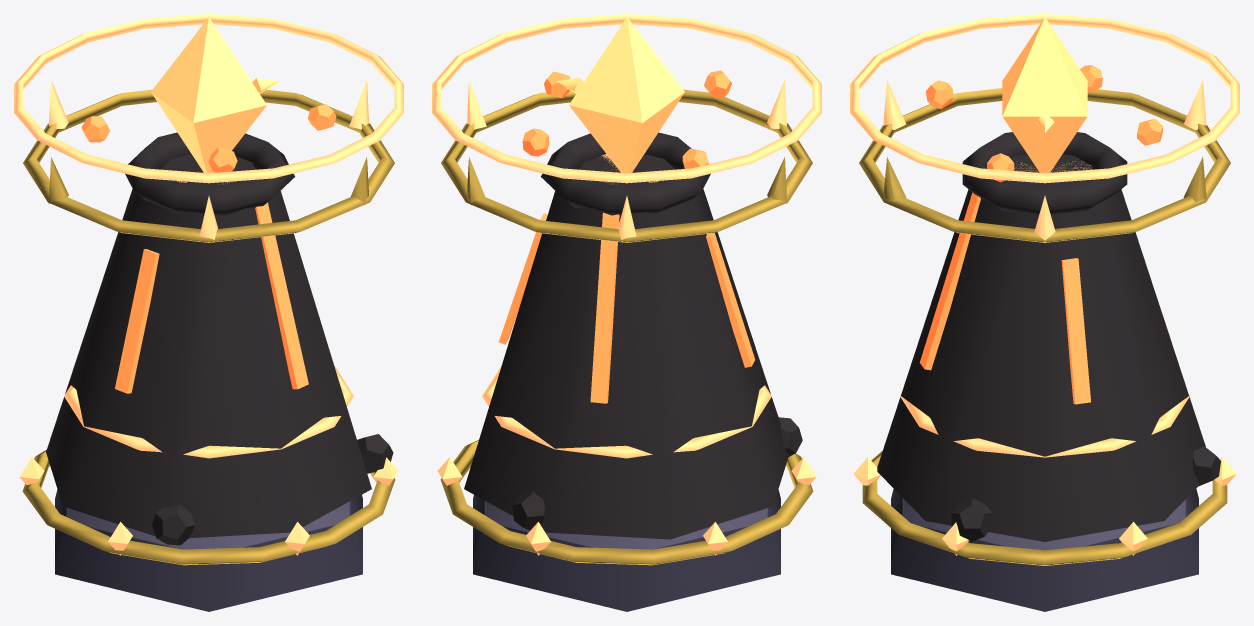
File: tower_element_elementVolcano_ultimate.glb
3 renders of one model, left to right at view 1: azimuth 30°, elevation 25°; view 2: azimuth 150°, elevation 25°; view 3: azimuth 270°, elevation 25°, orthographic.
Parts seen in each view (by area): view 1: volcano, base, ult_halo, crystal, ult_crown_band, volcano_rim, ult_ring, lava_rivulet_0_flow, base_top, lava_rivulet_3_flow, volcano_band, lava_rock_1 (+5 smaller); view 2: volcano, base, crystal, ult_halo, ult_crown_band, ult_ring, volcano_rim, lava_rivulet_2_flow, base_top, volcano_band, lava_rivulet_3_flow, lava_rivulet_1_flow (+5 smaller); view 3: volcano, base, ult_halo, ult_crown_band, crystal, volcano_rim, ult_ring, lava_rivulet_1_flow, base_top, volcano_band, lava_rivulet_0_flow, lava_rock_0 (+8 smaller).
Boxes of the visible parts, box(x1,y1,x2,y2) form: volcano: box(46, 154, 371, 538); base: box(55, 489, 362, 611); ult_halo: box(14, 14, 403, 183); crystal: box(151, 17, 266, 173); ult_crown_band: box(23, 89, 394, 242); volcano_rim: box(125, 132, 294, 216); ult_ring: box(22, 449, 395, 565); lava_rivulet_0_flow: box(255, 202, 308, 389); base_top: box(68, 501, 349, 549); lava_rivulet_3_flow: box(115, 249, 159, 393); volcano_band: box(64, 366, 353, 458); lava_rock_1: box(152, 504, 194, 545); volcano: box(464, 154, 788, 539); base: box(473, 489, 780, 611); crystal: box(569, 17, 684, 173); ult_halo: box(432, 14, 821, 183); ult_crown_band: box(441, 89, 812, 242); ult_ring: box(440, 440, 813, 565); volcano_rim: box(541, 132, 710, 215); lava_rivulet_2_flow: box(590, 212, 619, 403); base_top: box(486, 501, 767, 549); volcano_band: box(482, 366, 771, 458); lava_rivulet_3_flow: box(706, 233, 755, 367); lava_rivulet_1_flow: box(499, 213, 547, 344); volcano: box(877, 154, 1205, 541); base: box(891, 489, 1198, 611); ult_halo: box(850, 14, 1239, 183); ult_crown_band: box(859, 88, 1230, 242); crystal: box(1002, 17, 1087, 173); volcano_rim: box(962, 132, 1127, 214); ult_ring: box(862, 450, 1227, 565); lava_rivulet_1_flow: box(1061, 258, 1090, 404); base_top: box(904, 500, 1185, 550); volcano_band: box(900, 395, 1189, 457); lava_rivulet_0_flow: box(919, 192, 980, 370); lava_rock_0: box(951, 498, 992, 541).
Size of the model in its own units: 0.434 by 0.629 by 0.4274.
